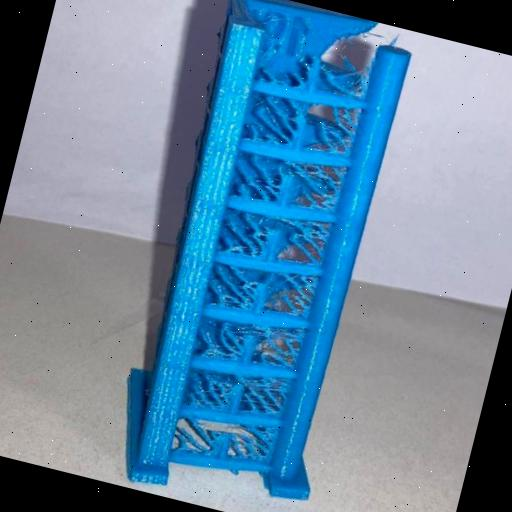stringing: (258, 268, 322, 316), (290, 165, 344, 219), (199, 264, 258, 312), (244, 97, 300, 145), (314, 106, 365, 156), (234, 377, 292, 420), (233, 160, 287, 206), (216, 212, 270, 258), (252, 330, 305, 374), (172, 416, 220, 458), (184, 369, 236, 406), (200, 322, 242, 364), (286, 222, 328, 262), (233, 426, 277, 462)
